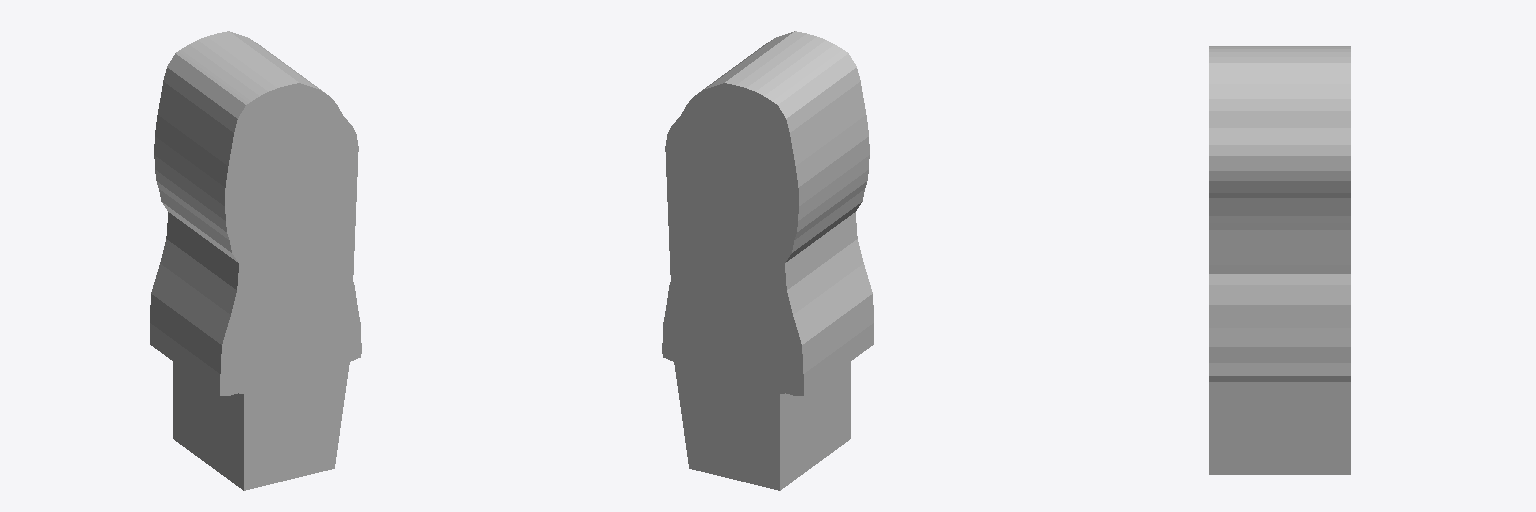
File: jesterBody.obj
The picture shows the model from 3 angles: view 1: azimuth 30°, elevation 25°; view 2: azimuth 150°, elevation 25°; view 3: azimuth 270°, elevation 25°; orthographic projection.
Visible parts, largest first — view 1: Plane.000; view 2: Plane.000; view 3: Plane.000.
Part boxes in pixels (x1,y1,x2,y2): Plane.000: (150,31,361,490); Plane.000: (662,31,873,490); Plane.000: (1209,46,1350,474).
Bounding box in the file's own units: 0.4815 × 1.28 × 0.4162.